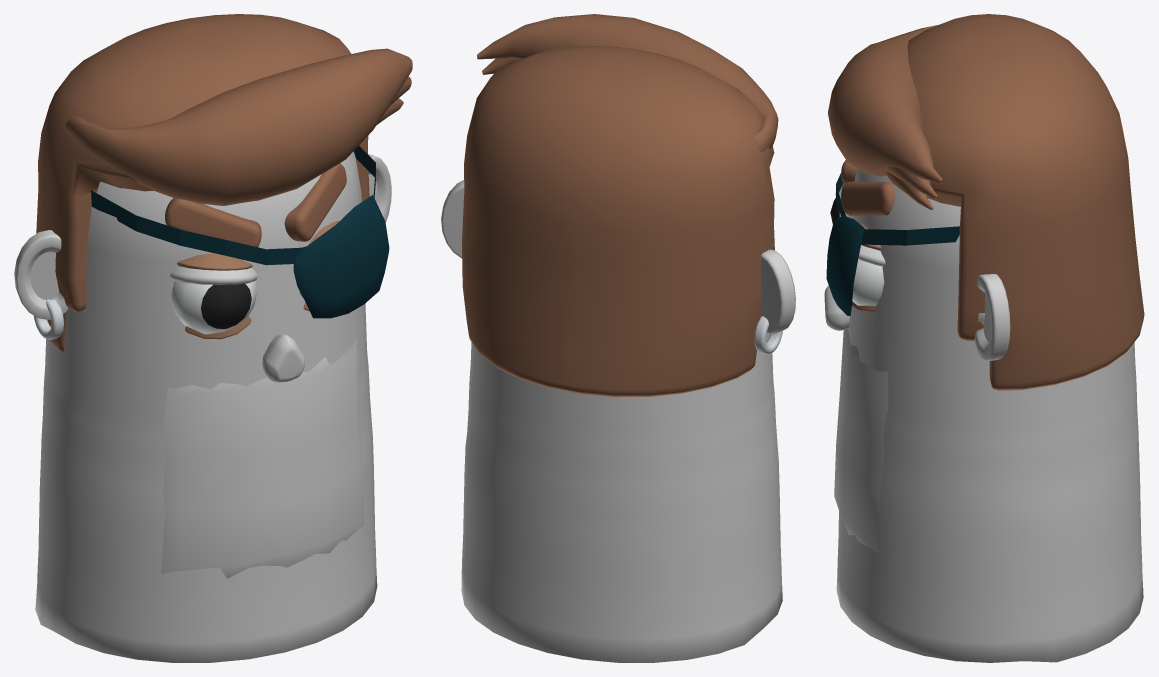
The model's file is head 3.fbx.
3 views of the same model, side by side, from view 1: azimuth 30°, elevation 25°; view 2: azimuth 150°, elevation 25°; view 3: azimuth 270°, elevation 25° (orthographic). The views are drawn at different scales.
Parts seen in each view (by area): view 1: head3, face_6; view 2: head3; view 3: head3, face_6.
Boxes of the visible parts, x1,y1,x2,y2 form: head3: (14, 14, 412, 662); face_6: (160, 337, 364, 578); head3: (441, 14, 795, 662); head3: (824, 14, 1144, 662); face_6: (834, 328, 888, 555).
Size of the model in its own units: 0.5116 by 0.7368 by 0.3886.
